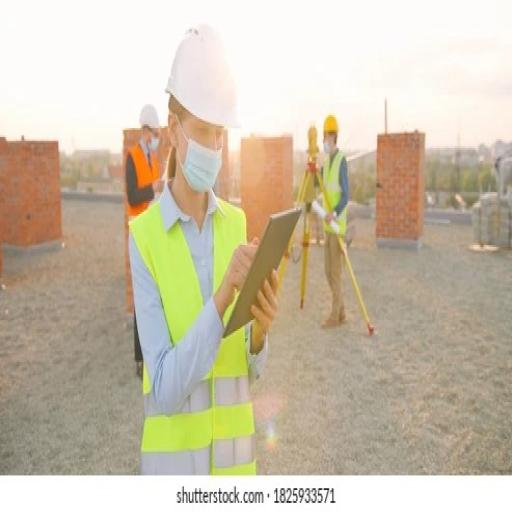mask: (184, 129, 230, 203)
